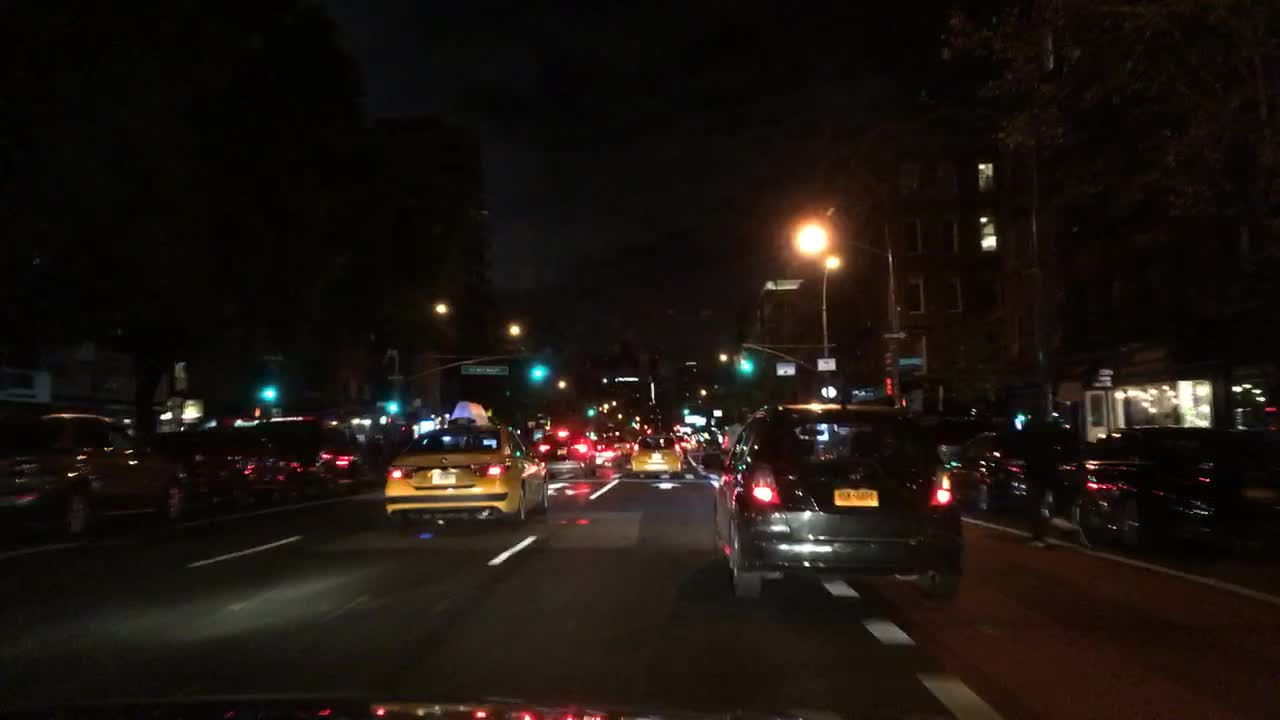car: (711, 399, 962, 603), (1070, 426, 1277, 559), (0, 412, 195, 535), (382, 400, 548, 527), (943, 423, 1085, 526), (151, 428, 257, 508), (317, 420, 403, 489), (252, 419, 340, 484), (629, 433, 683, 478), (531, 426, 593, 460), (594, 438, 621, 466), (675, 434, 689, 460), (614, 441, 633, 454)
traffic light: (739, 355, 751, 376), (262, 384, 274, 402), (386, 398, 398, 414), (531, 364, 543, 380), (885, 375, 894, 396), (586, 405, 594, 416), (683, 407, 689, 415)
traffic sign: (461, 364, 508, 374), (817, 358, 835, 372), (776, 362, 795, 375), (897, 357, 923, 365), (880, 331, 905, 339), (385, 372, 404, 380), (270, 408, 282, 416)
